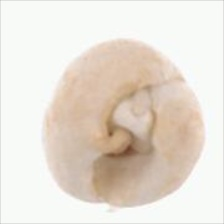L3: (99, 84, 155, 157)
L4: (41, 37, 205, 208)
